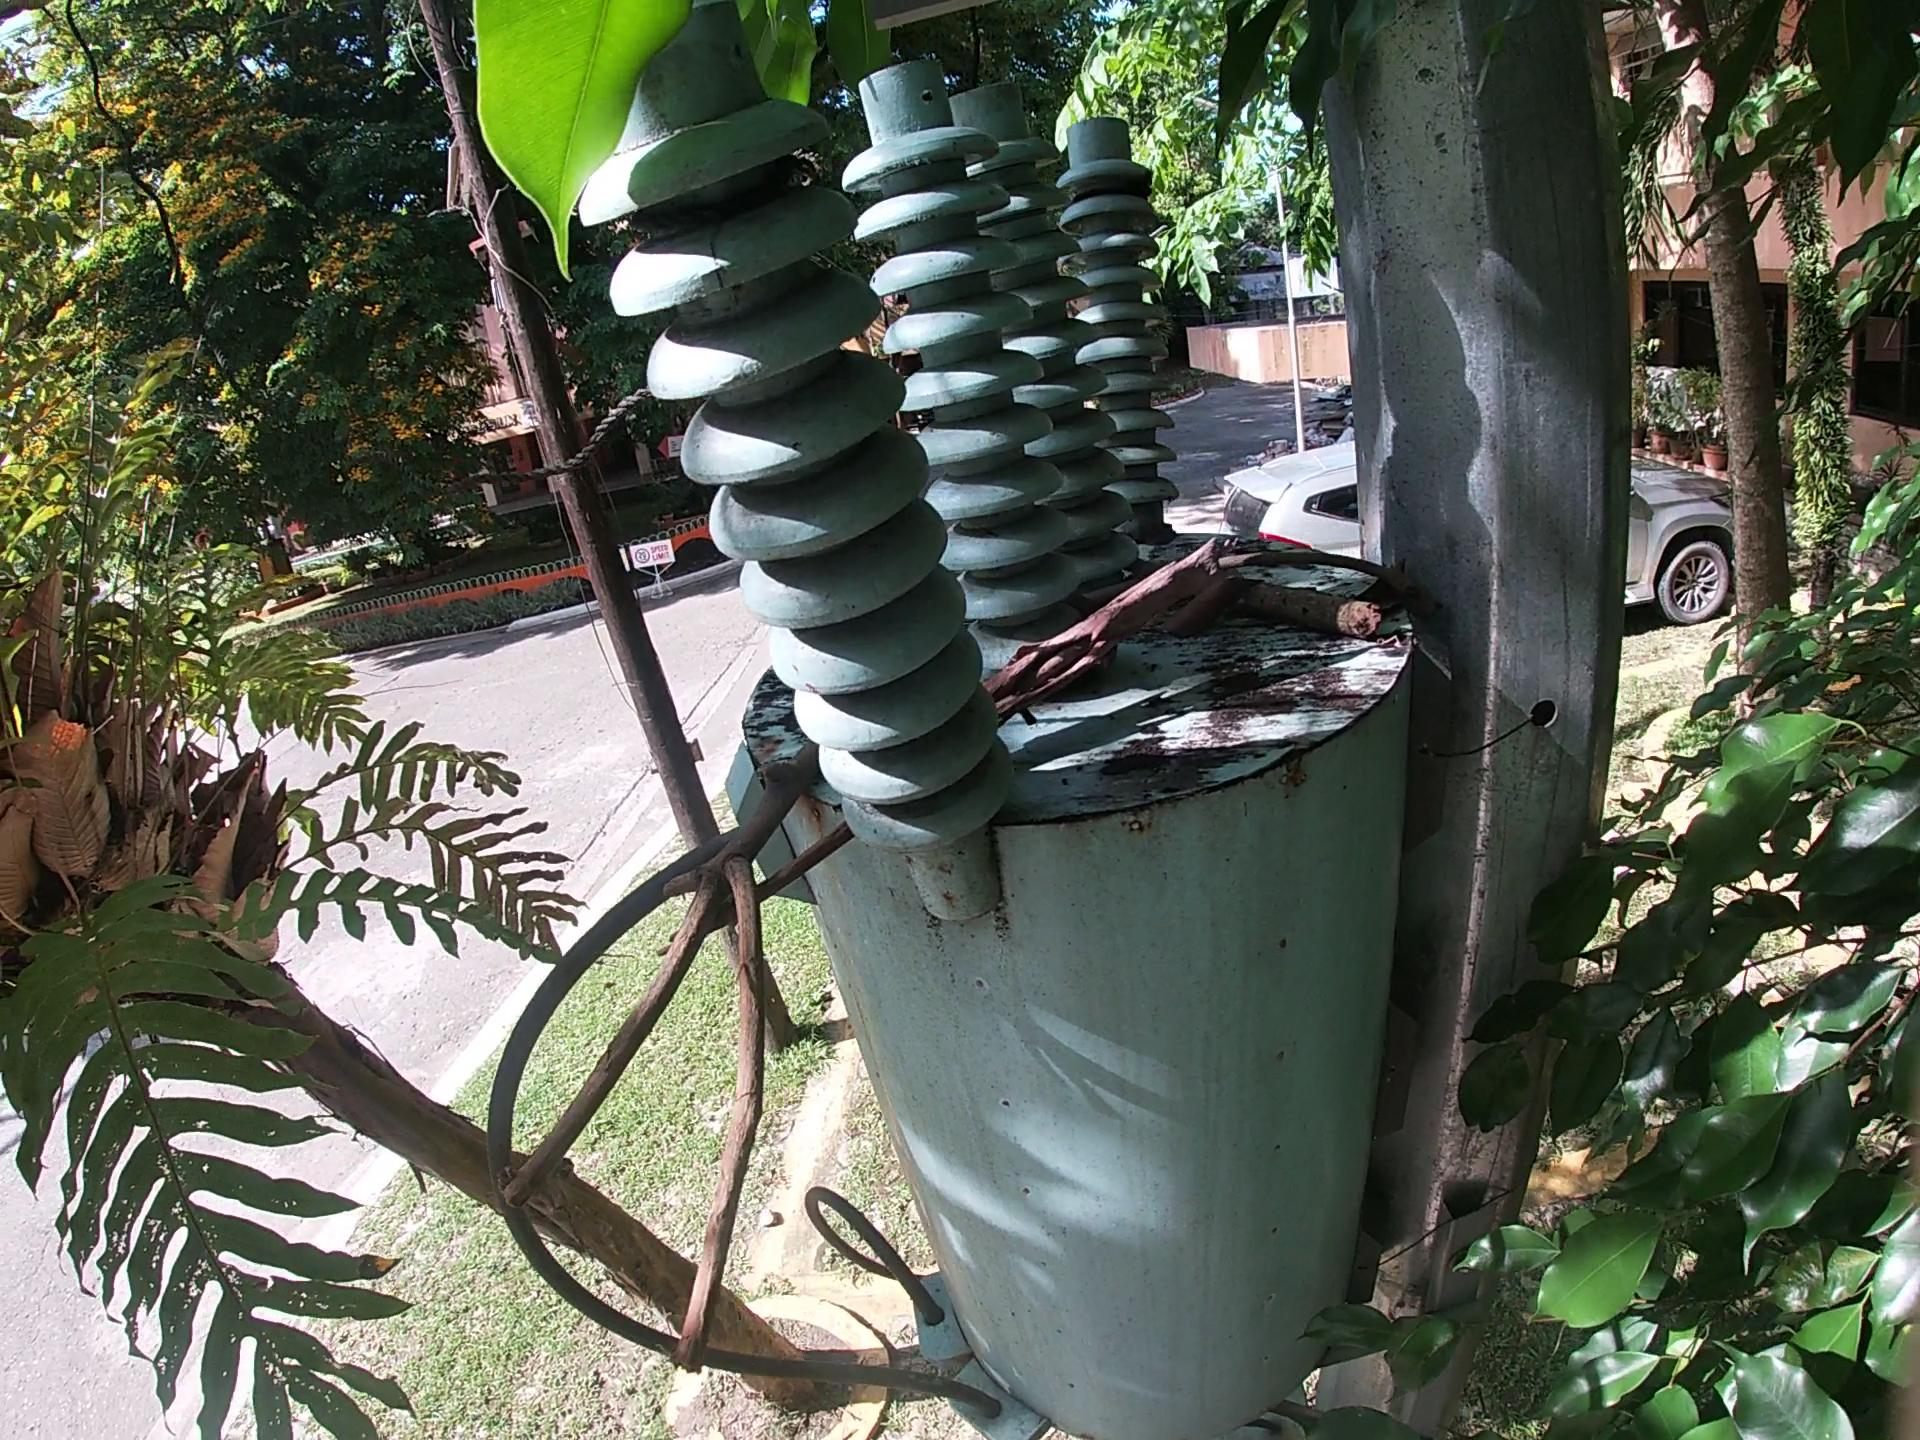leaf: (1167, 575, 1256, 635), (1370, 560, 1424, 611)
tree branch: (454, 747, 821, 1405), (969, 534, 1281, 712), (714, 829, 857, 945), (1240, 585, 1429, 641), (1212, 551, 1426, 585), (1082, 576, 1141, 601)
